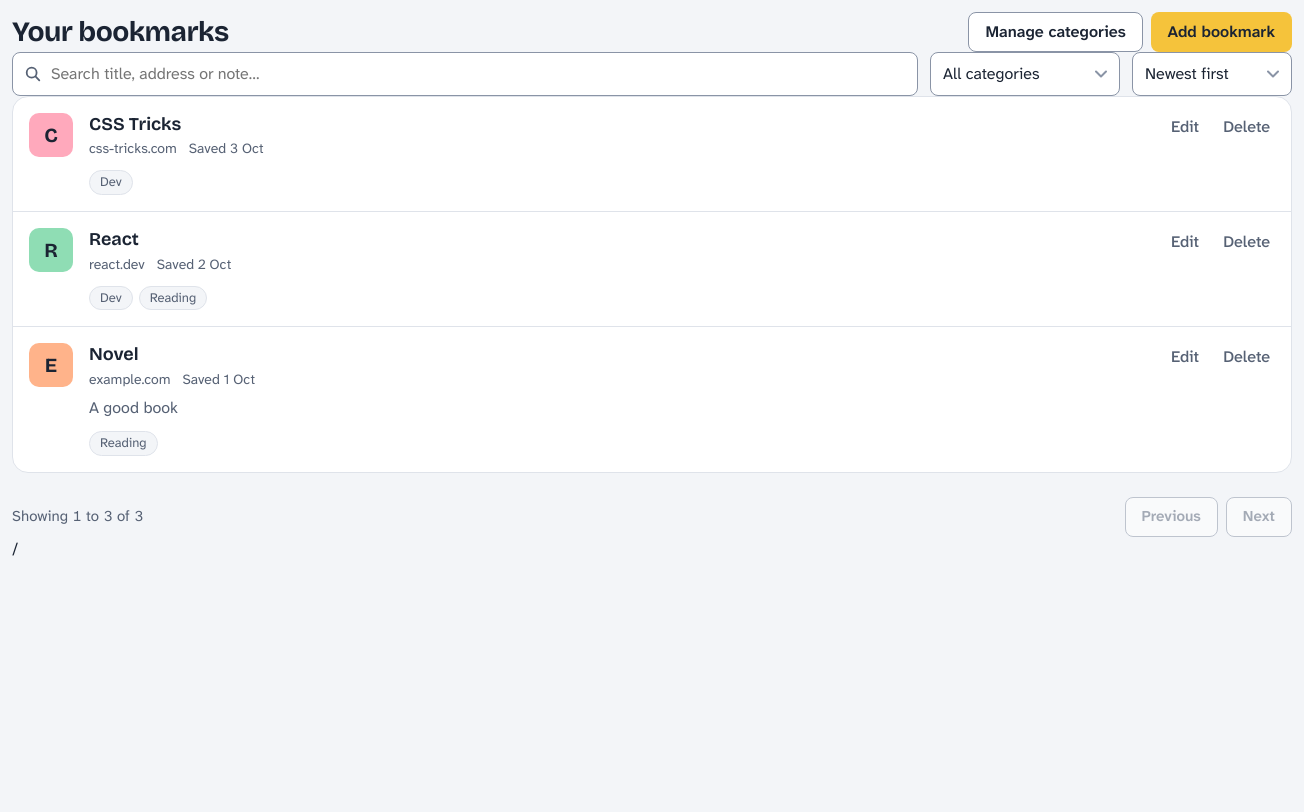
search › searches right away when Enter is pressed
The width and height of the screenshot is (1304, 812).
In the search field named "Search bookmarks": (465, 74) [12, 52, 918, 96], type "novel"
Then press Enter
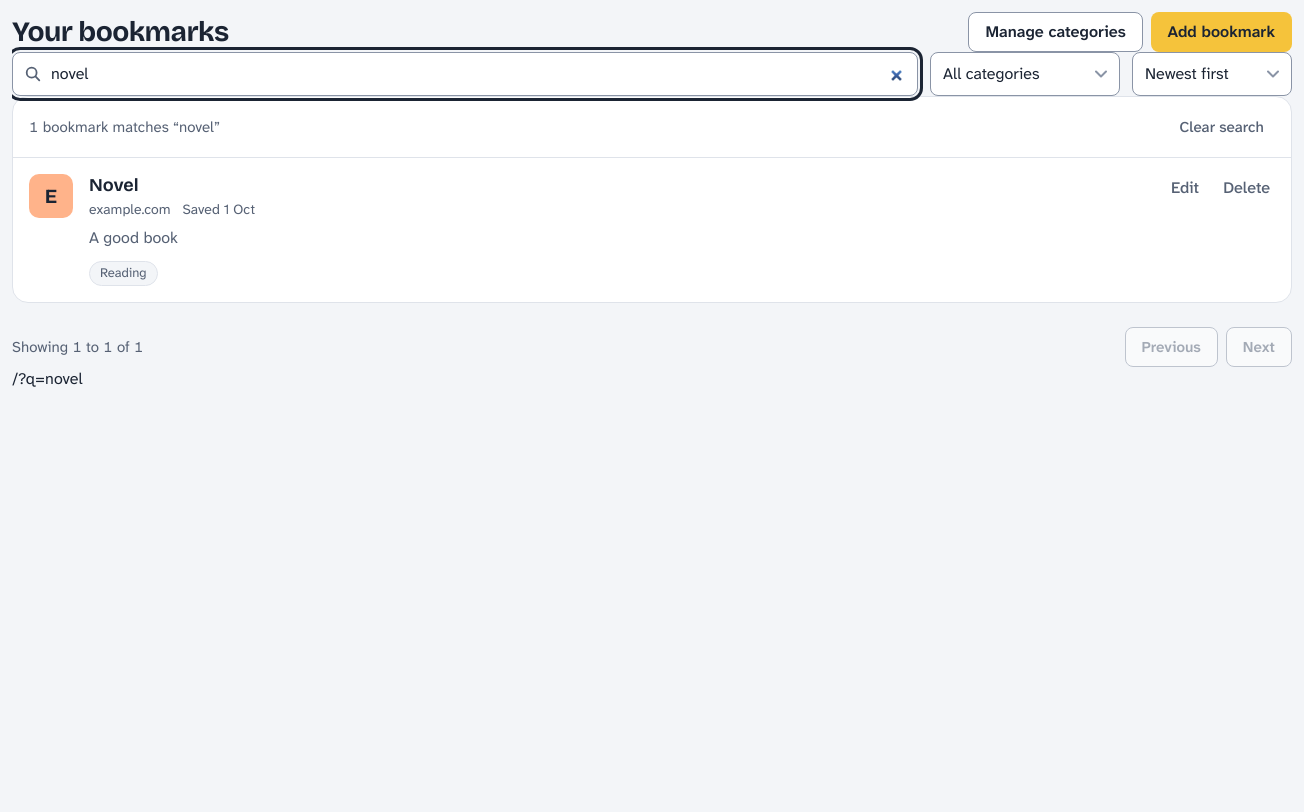
Expected: the text with test id "address" reads "/?q=novel", [12, 368, 83, 389]
